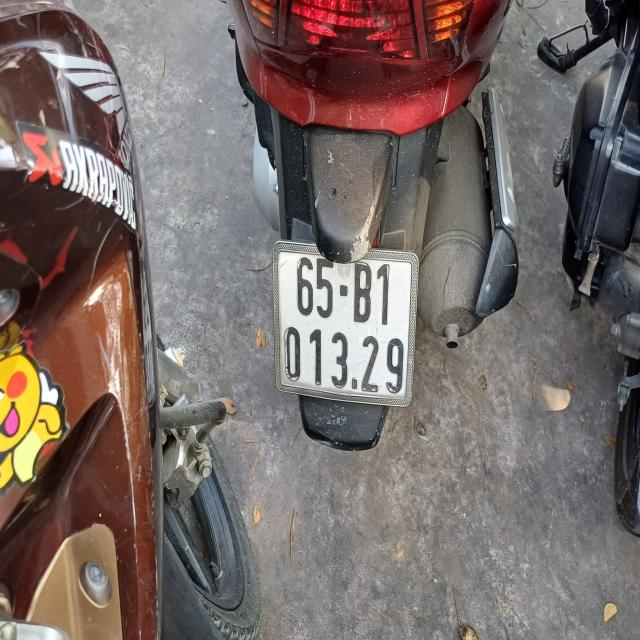0: (283, 324, 302, 384)
1: (310, 326, 323, 392), (376, 263, 390, 324)
2: (361, 335, 380, 396)
3: (330, 329, 350, 388)
5: (316, 258, 334, 321)
6: (295, 255, 314, 318)
B: (352, 260, 373, 322)
